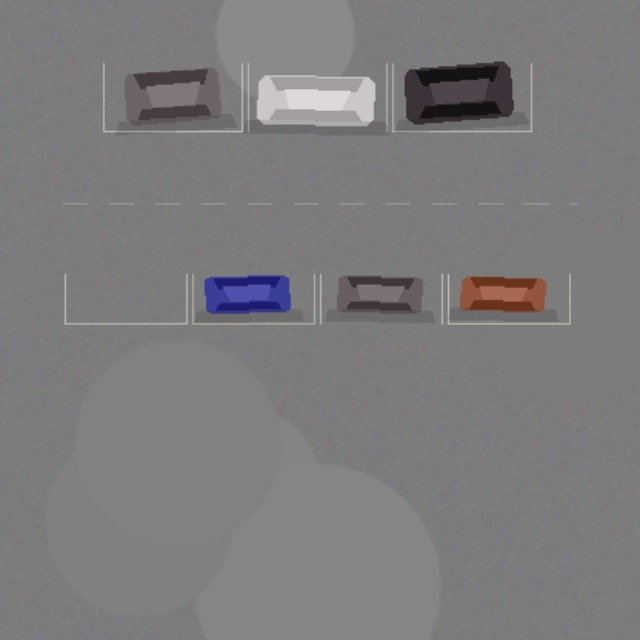space-empty: (65, 274, 186, 323)
space-occupied: (103, 63, 242, 131), (392, 63, 531, 131), (248, 63, 386, 131), (192, 274, 314, 323), (320, 274, 442, 323), (448, 274, 569, 323)
